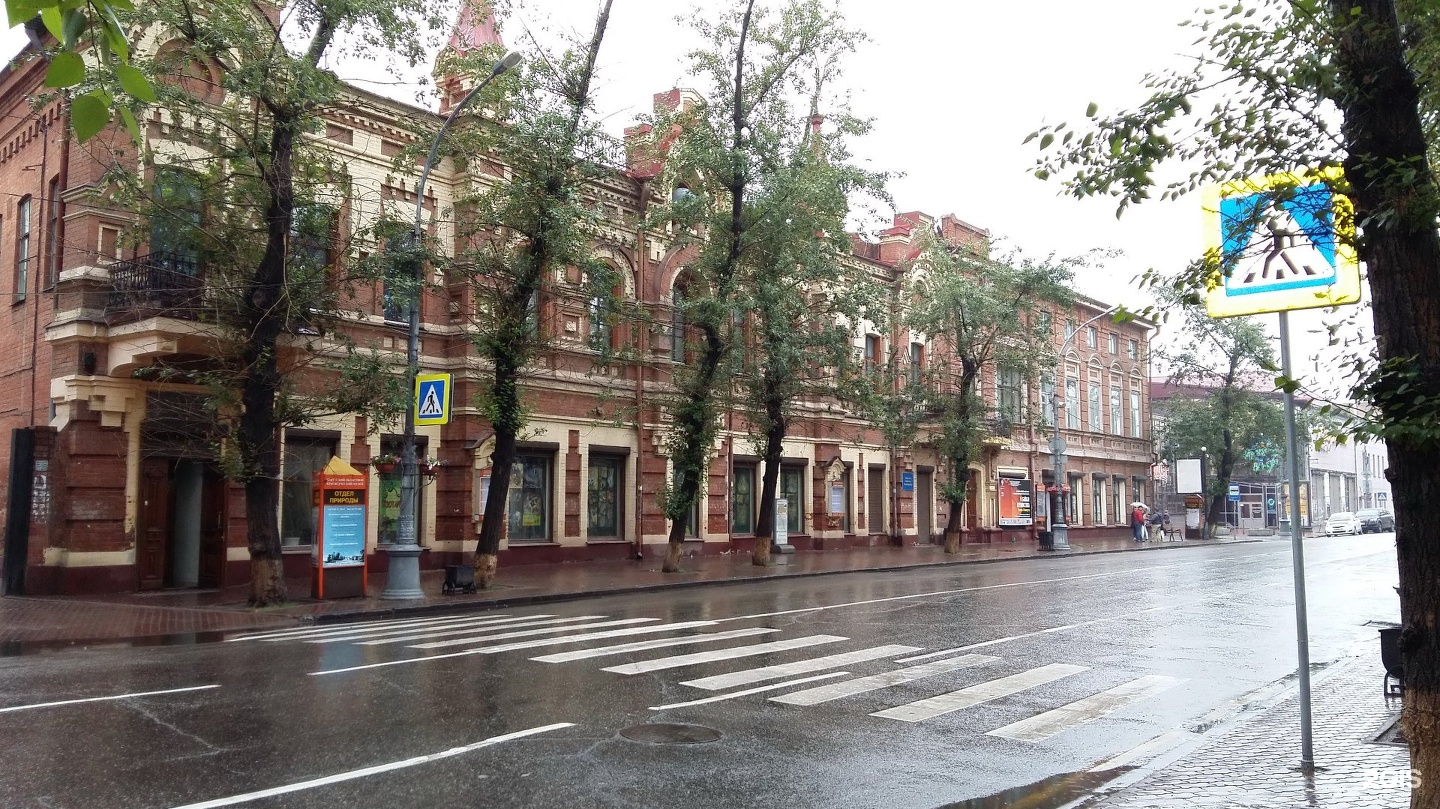sign: (1190, 166, 1364, 315), (407, 366, 457, 429)
